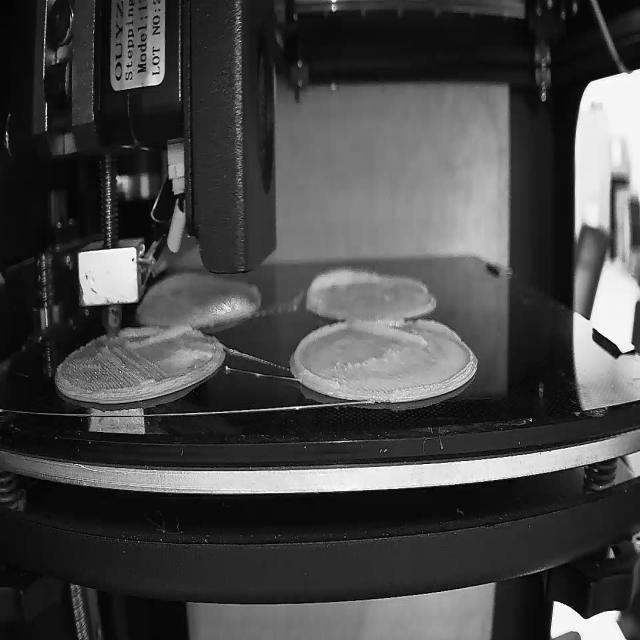over_extrusion: (294, 321, 349, 391), (351, 321, 462, 355), (306, 266, 382, 306), (119, 323, 188, 355), (391, 273, 429, 293)
